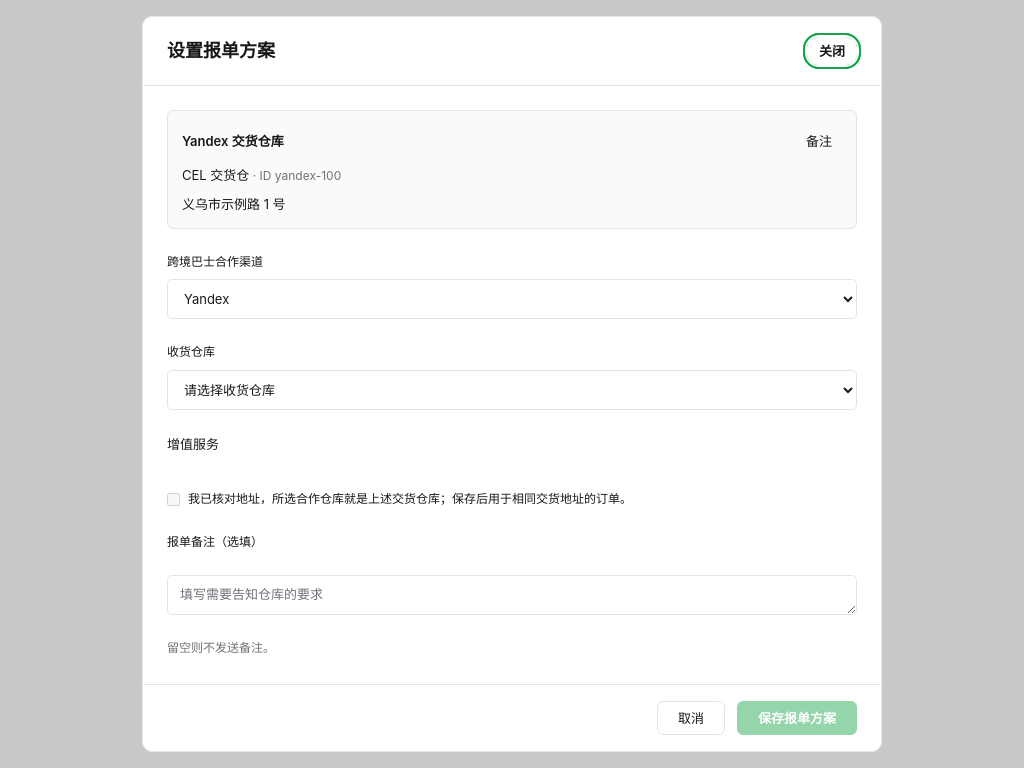
Test: 本单报单仓库与服务 › 查看订单中心的同一份地址备注，编辑保存期间禁止关闭或提交报单
Select "义乌合作仓" in the dropdown labelled "收货仓库" at (512, 390), box [167,370,857,410]
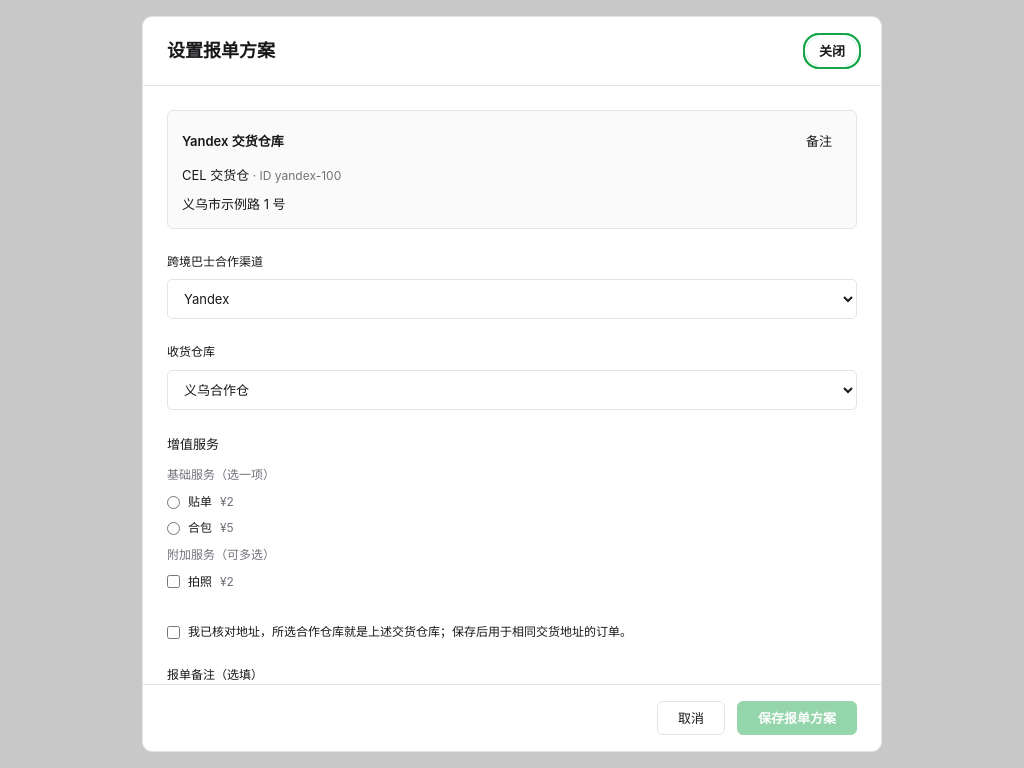
Click the radio button labelled "合包 ¥5".
click(174, 529)  # box [167,522,180,535]
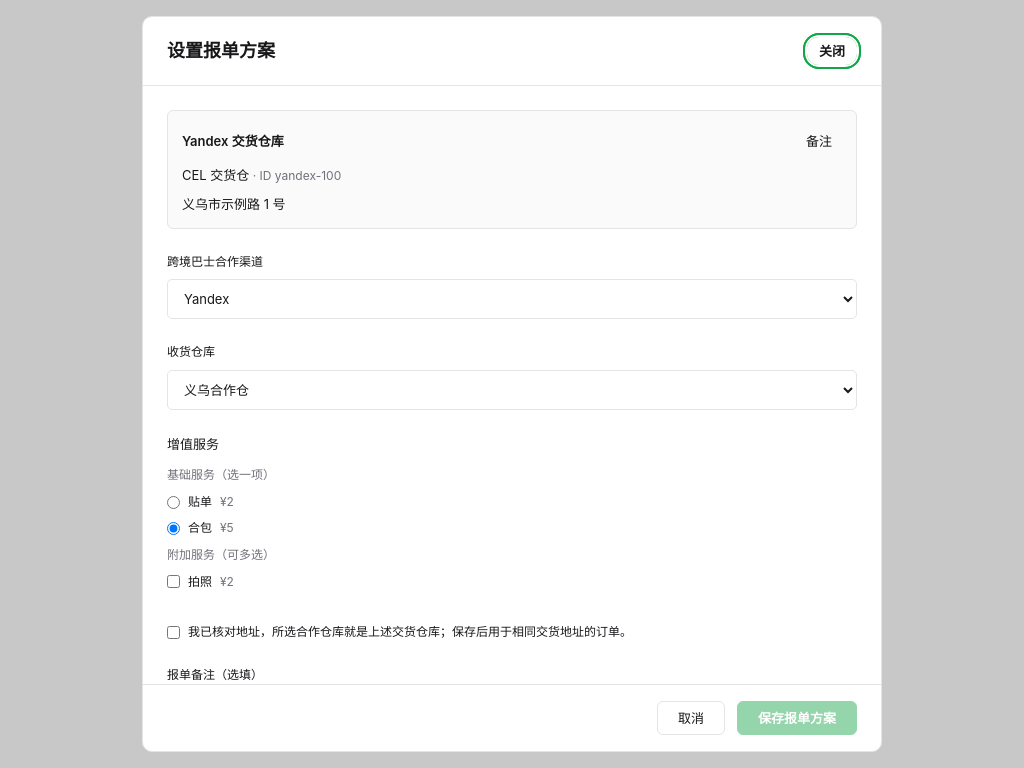
Click the checkbox labelled "我已核对地址，所选合作仓库就是上述交货仓库；保存后用于相同交货地址的订单。".
click(174, 632)  # box [167,626,180,639]
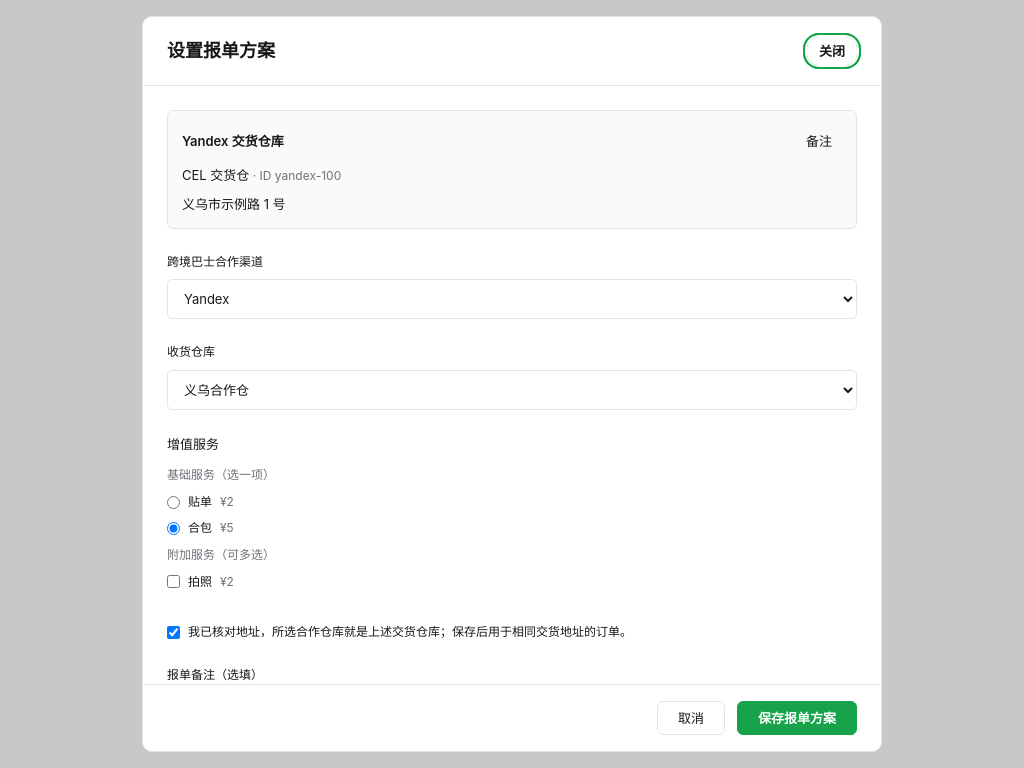
Click the button "备注".
click(819, 141)  # box [796,125,842,157]
(page scrolled)
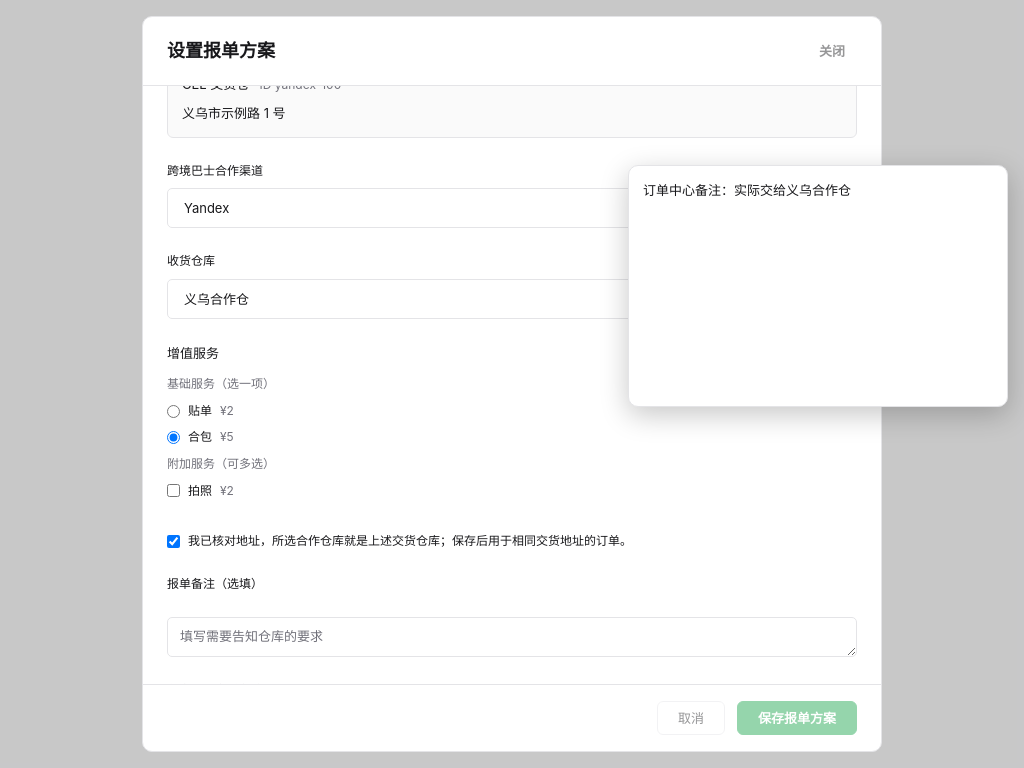
expect the text box named "地址备注" holds "订单中心备注：实际交给义乌合作仓": met, box [639,176,997,396]
expect the button "保存报单方案" is disabled: met, box [737,701,857,735]
expect the button with aria-label "关闭设置报单方案" is disabled: met, box [807,37,857,65]
Submit the form
Replace the text in the text box named "地址备注" with "核对后的收件人和地址" at (818, 286), box [639,176,997,396]
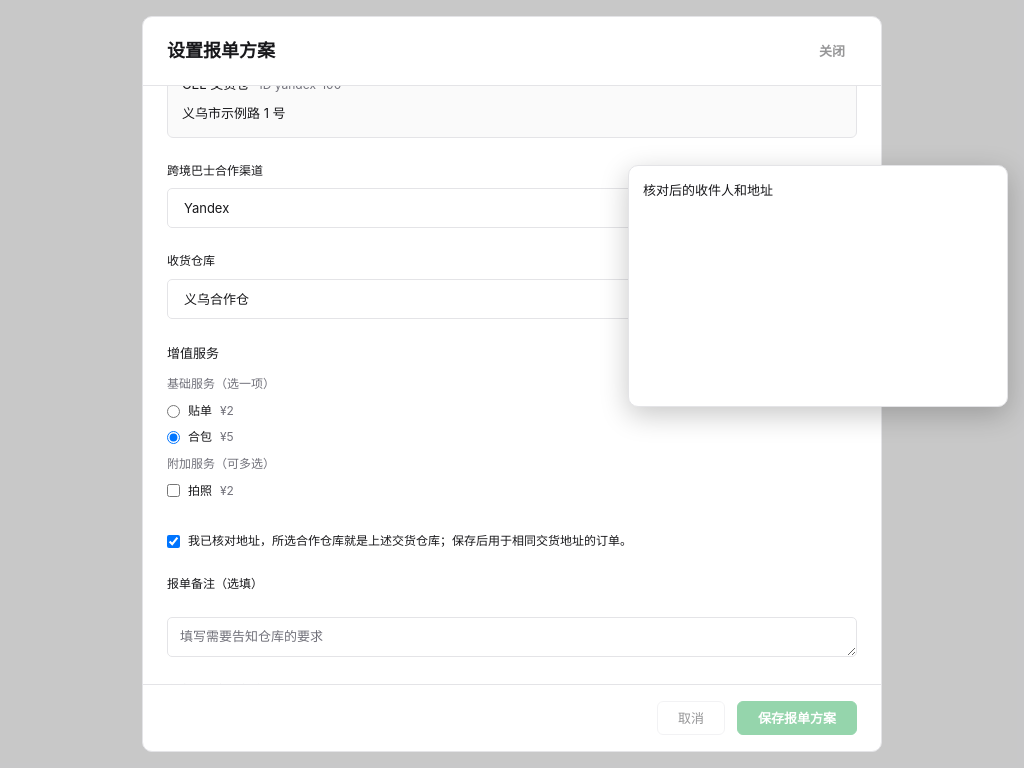
Press Escape in the text box named "地址备注", box [639,176,997,396]
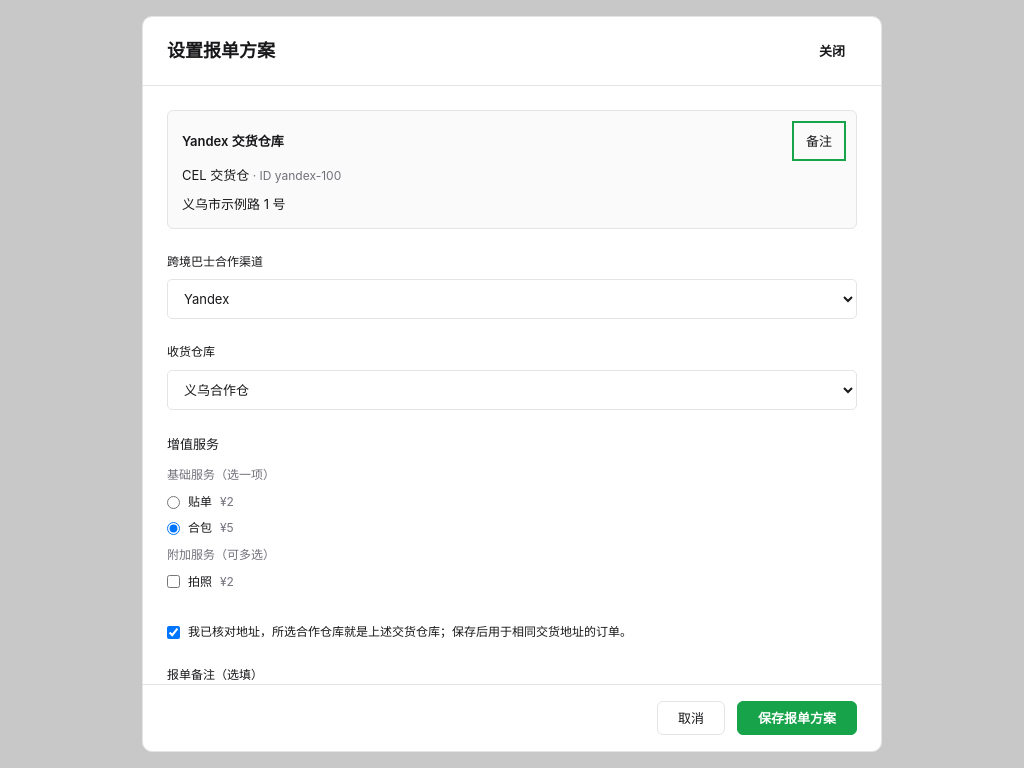
expect the button "保存报单方案" is enabled: met, box [737,701,857,735]
